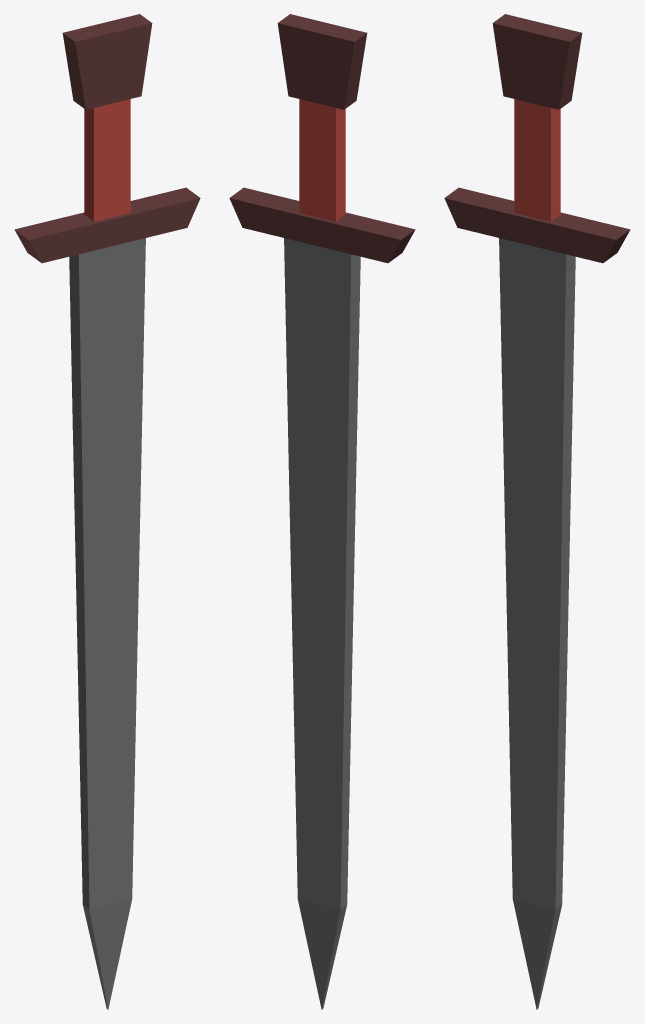
The model's file is Sword_2_Red.fbx.
3 renders of one model, left to right at view 1: azimuth 30°, elevation 25°; view 2: azimuth 150°, elevation 25°; view 3: azimuth 330°, elevation 25°, orthographic.
Visible parts, largest first — view 1: Sword_2_Red_Part_1, Sword_2_Red_Part_2, Sword_2_Red_Part_3; view 2: Sword_2_Red_Part_1, Sword_2_Red_Part_2, Sword_2_Red_Part_3; view 3: Sword_2_Red_Part_1, Sword_2_Red_Part_2, Sword_2_Red_Part_3.
Part boxes in pixels (x1,y1,x2,y2): Sword_2_Red_Part_1: (69, 238, 145, 1009); Sword_2_Red_Part_2: (14, 14, 200, 263); Sword_2_Red_Part_3: (84, 99, 130, 221); Sword_2_Red_Part_1: (284, 238, 360, 1009); Sword_2_Red_Part_2: (229, 14, 415, 263); Sword_2_Red_Part_3: (299, 99, 345, 221); Sword_2_Red_Part_1: (499, 238, 575, 1009); Sword_2_Red_Part_2: (444, 14, 630, 263); Sword_2_Red_Part_3: (514, 99, 560, 221).
Size of the model in its own units: 22.01 by 120 by 3.2.
